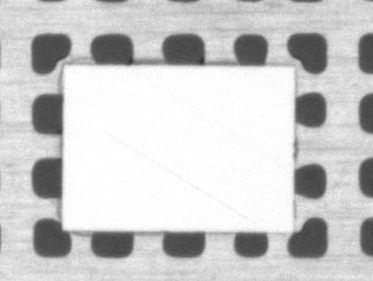DIE_CRACK: (137, 99, 338, 168)
